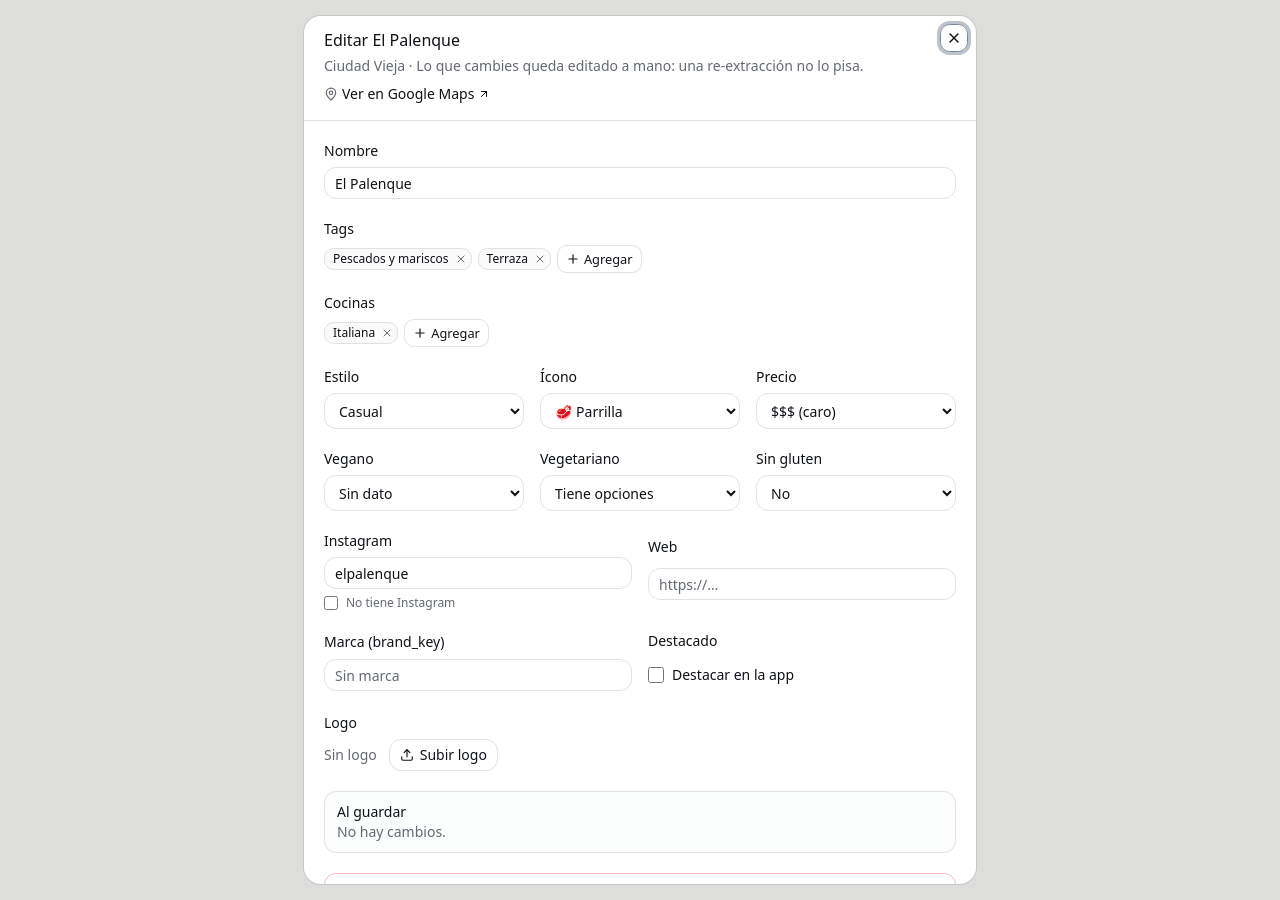
Scenario: PlaceEditDialog › guardado con avisos: queda abierto y los muestra; un error de guardado se muestra sin cerrar
Replace the text in the field labelled "Nombre" with "Palenque" at [640, 183], box [324,167,956,199]
(page scrolled)
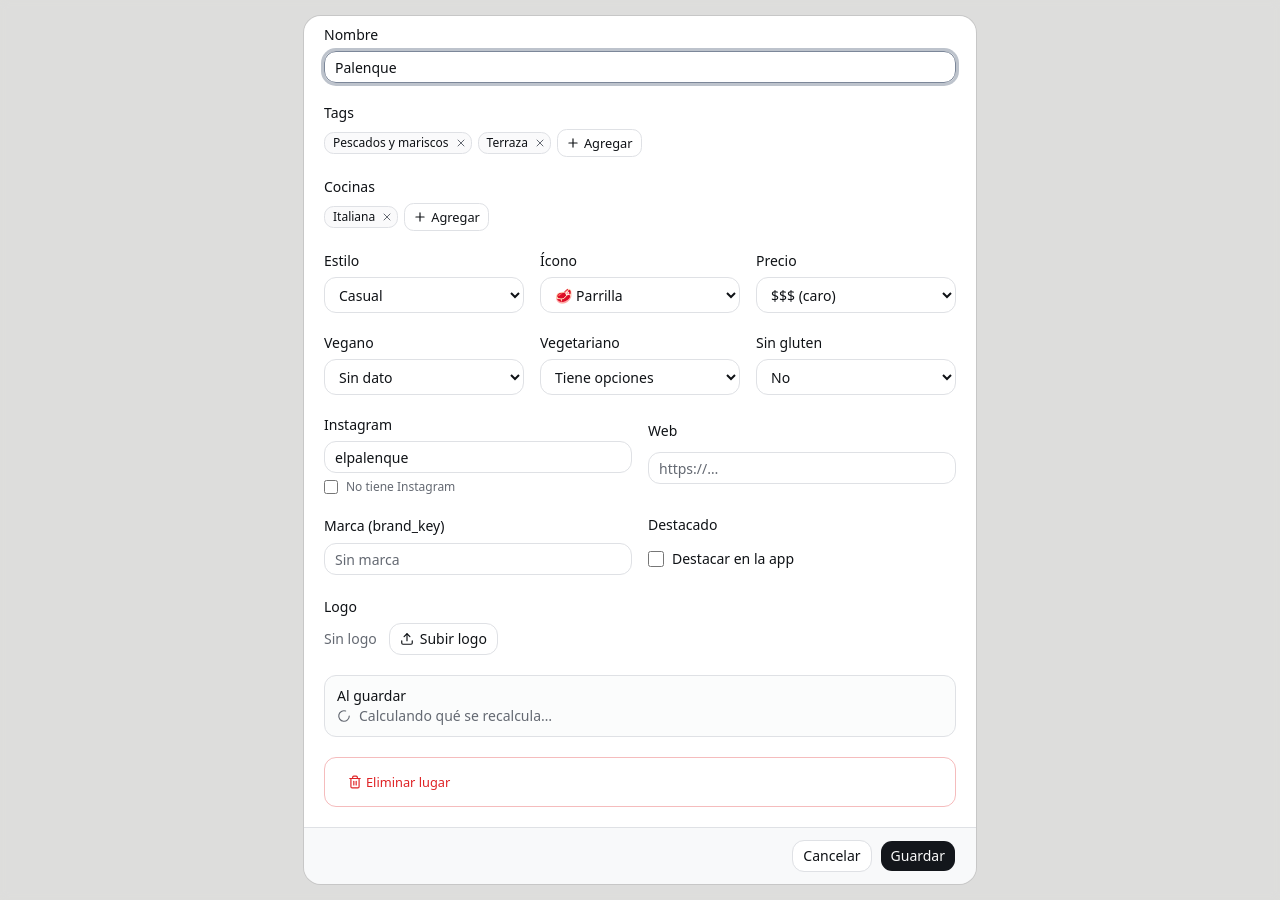
Click the button "Guardar" at [918, 856], box [880,840,956,872]
(page scrolled)
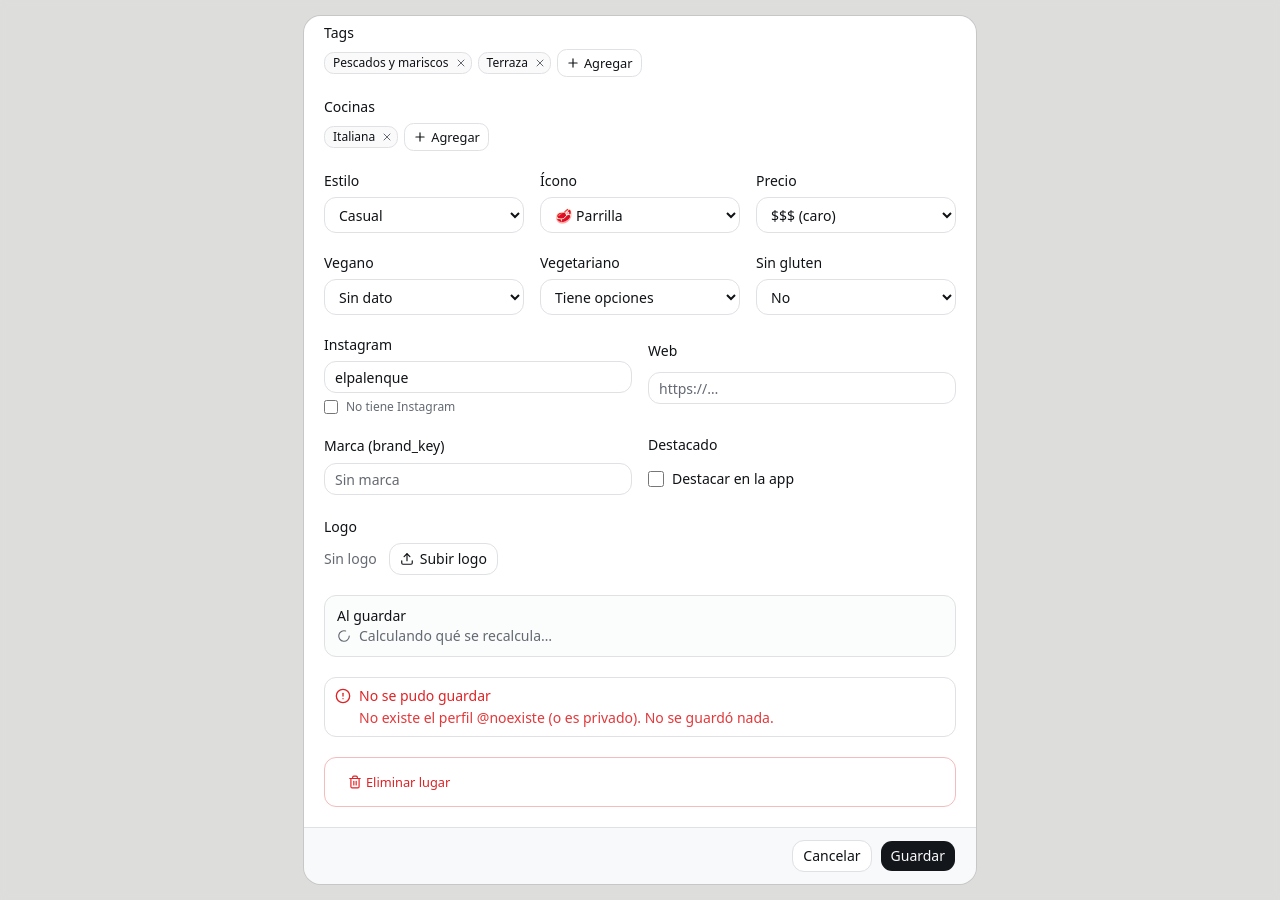
Now the text "No existe el perfil @noexiste (o es privado). No se guardó nada." is shown, box [359,708,774,727]
Click the button "Guardar" at [918, 856], box [880,840,956,872]
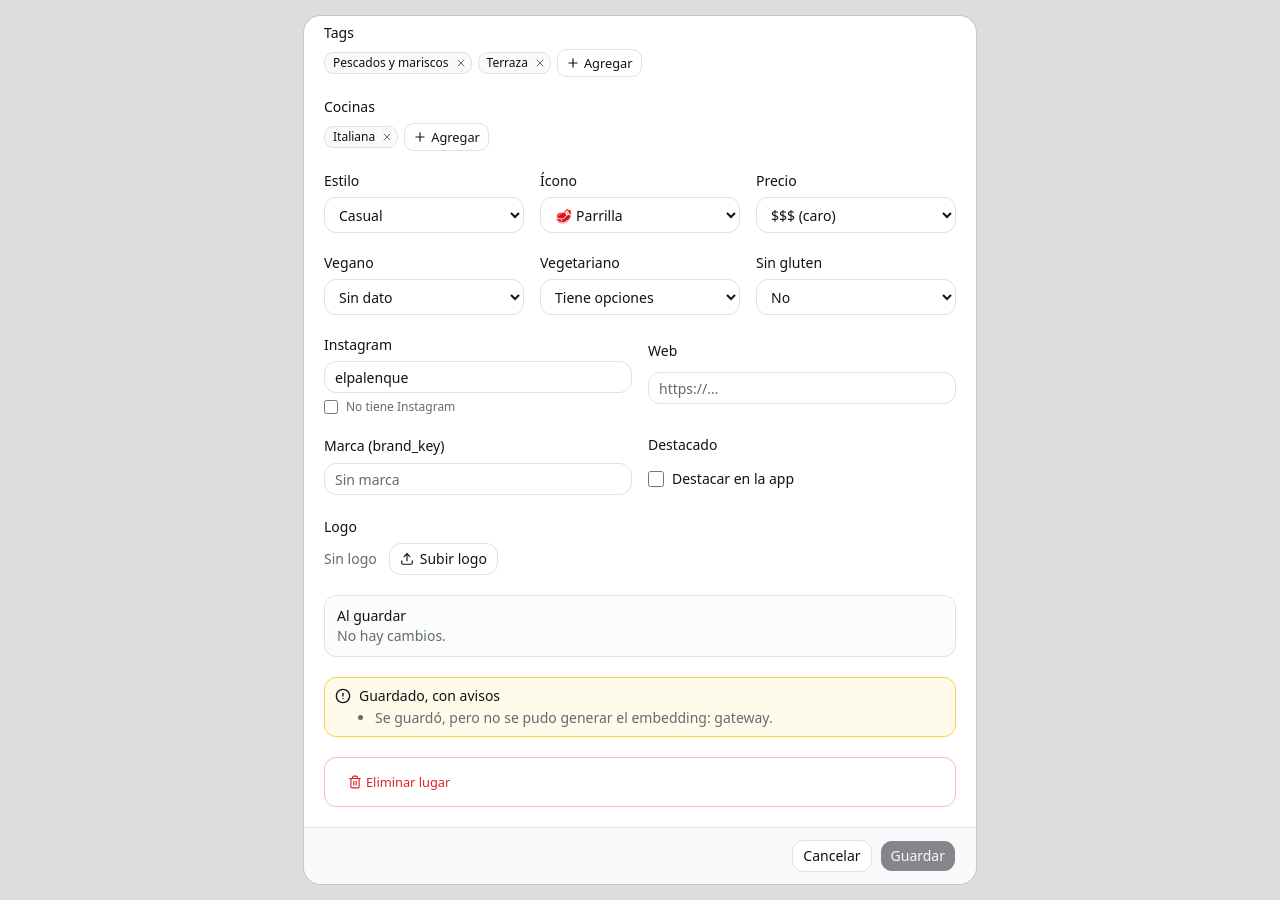
Now the text "Guardado, con avisos" is shown, box [359,686,500,705]
Now the list item "Se guardó, pero no se pudo generar el embedding: gateway." is shown, box [375,708,773,727]
